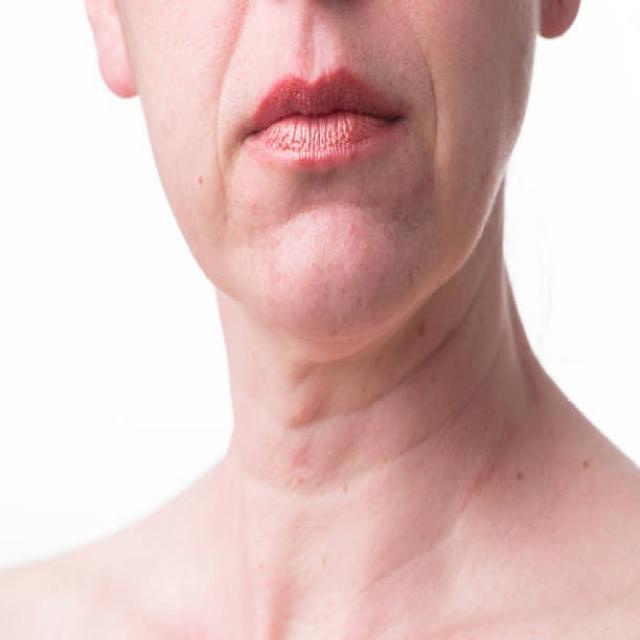Dry-Skin: (231, 332, 541, 532), (409, 32, 528, 216), (141, 56, 230, 220)
